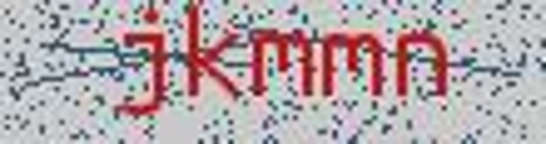j: (111, 3, 175, 132)
k: (180, 1, 248, 115)
m: (248, 15, 317, 111), (319, 27, 386, 113)
n: (392, 20, 459, 116)
